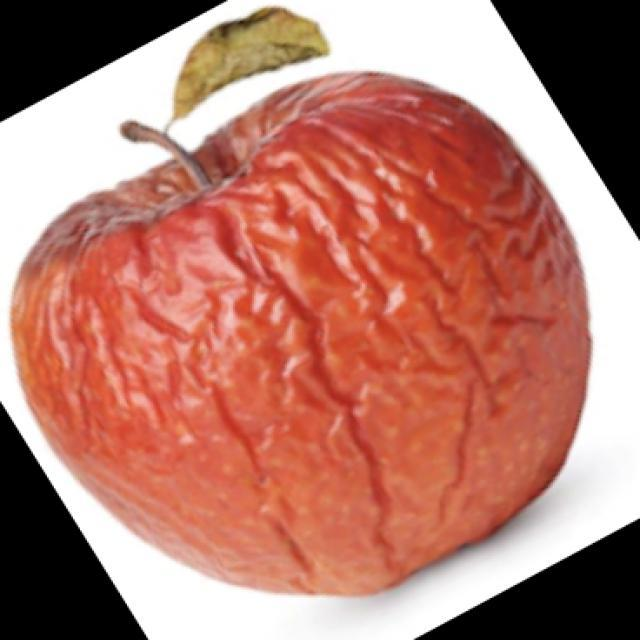Rotten: (17, 70, 580, 598)
